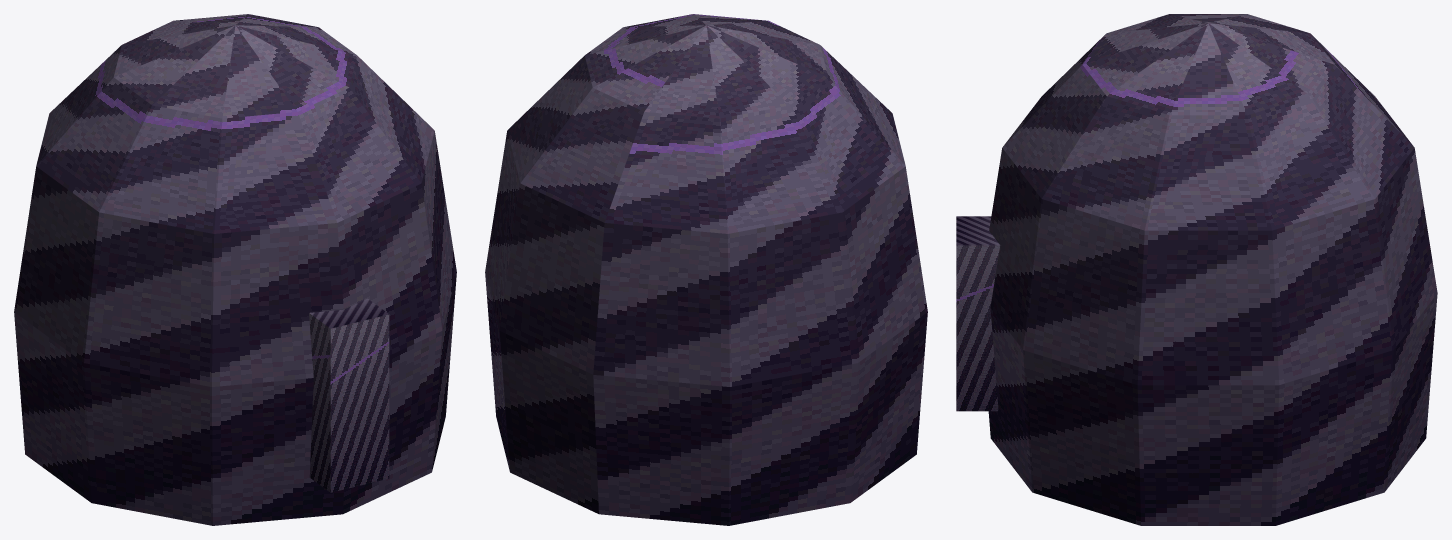
Rendered from capacete_de_obsidiana.glb.
3 renders of one model, left to right at view 1: azimuth 30°, elevation 25°; view 2: azimuth 150°, elevation 25°; view 3: azimuth 270°, elevation 25°, orthographic.
Parts seen in each view (by area): view 1: capacete_de_obsidiana; view 2: capacete_de_obsidiana; view 3: capacete_de_obsidiana.
Part boxes in pixels (x1,y1,x2,y2): capacete_de_obsidiana: [14, 14, 456, 525]; capacete_de_obsidiana: [485, 14, 927, 525]; capacete_de_obsidiana: [956, 14, 1437, 525].
Bounding box in the file's own units: 0.3804 × 0.4 × 0.42.
1 material, 1 textured.
